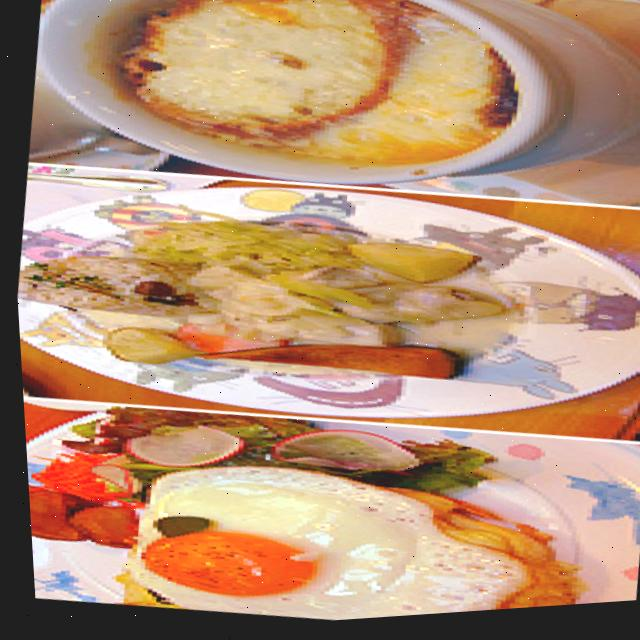鸡蛋料理: (58, 423, 524, 638)
